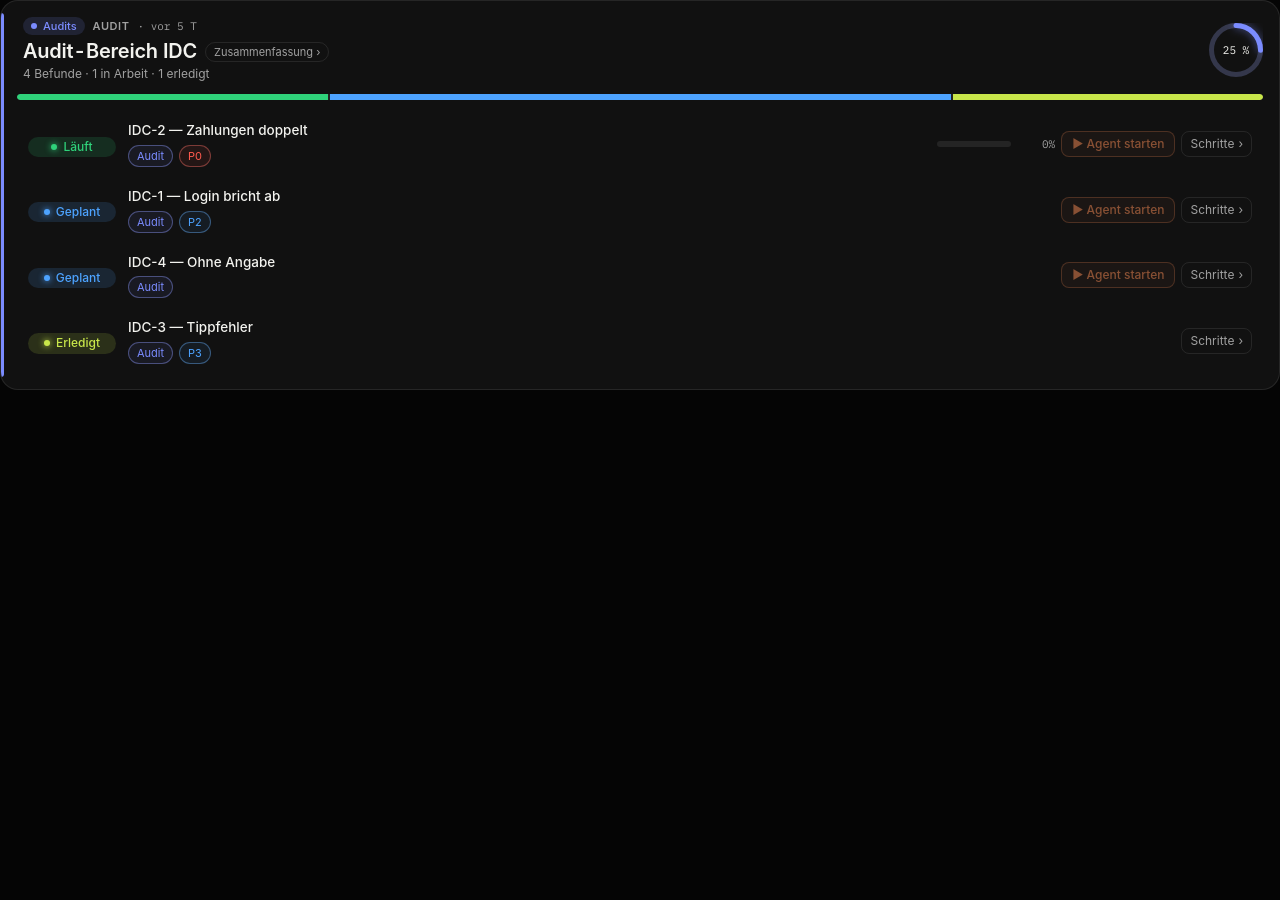
Test: auditAreaSummary › Klick auf den Bereich öffnet die Zusammenfassung mit „Nyx fragen“
This screenshot has width=1280, height=900.
Click the button with test id "audit-area-toggle" at (176, 52), box [23, 39, 329, 64]
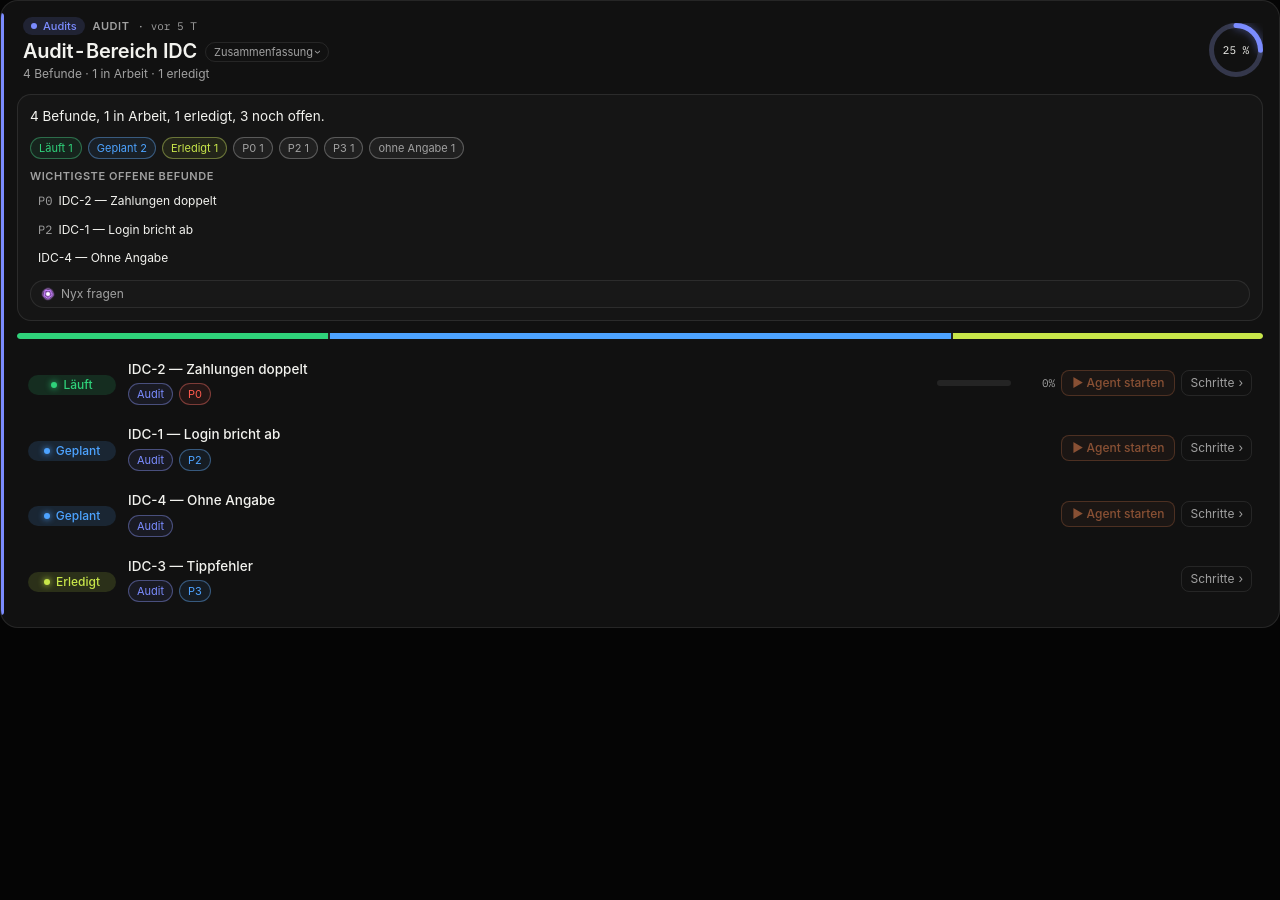
Result: the element with test id "audit-area-summary" shows "4 Befunde, 1 in Arbeit, 1 erledigt, 3 noch offen." at [30, 108, 325, 124]
Result: the element with test id "audit-area-summary" shows "Zahlungen doppelt" at [30, 189, 1250, 214]
Result: the button with test id "ask-nyx" is shown at [30, 280, 1250, 308]
